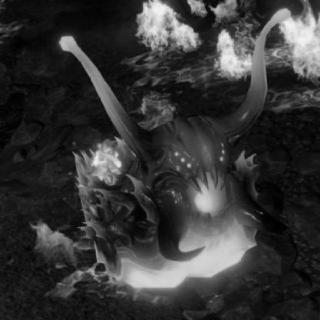Fire: (28, 221, 80, 273)
